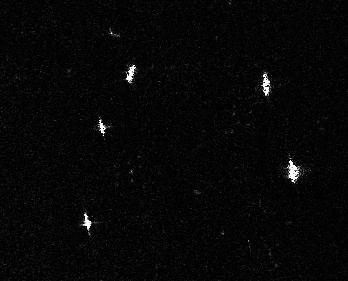ship: (286, 159, 301, 182), (261, 72, 272, 97), (82, 212, 92, 233), (125, 64, 136, 83), (97, 118, 107, 137)
